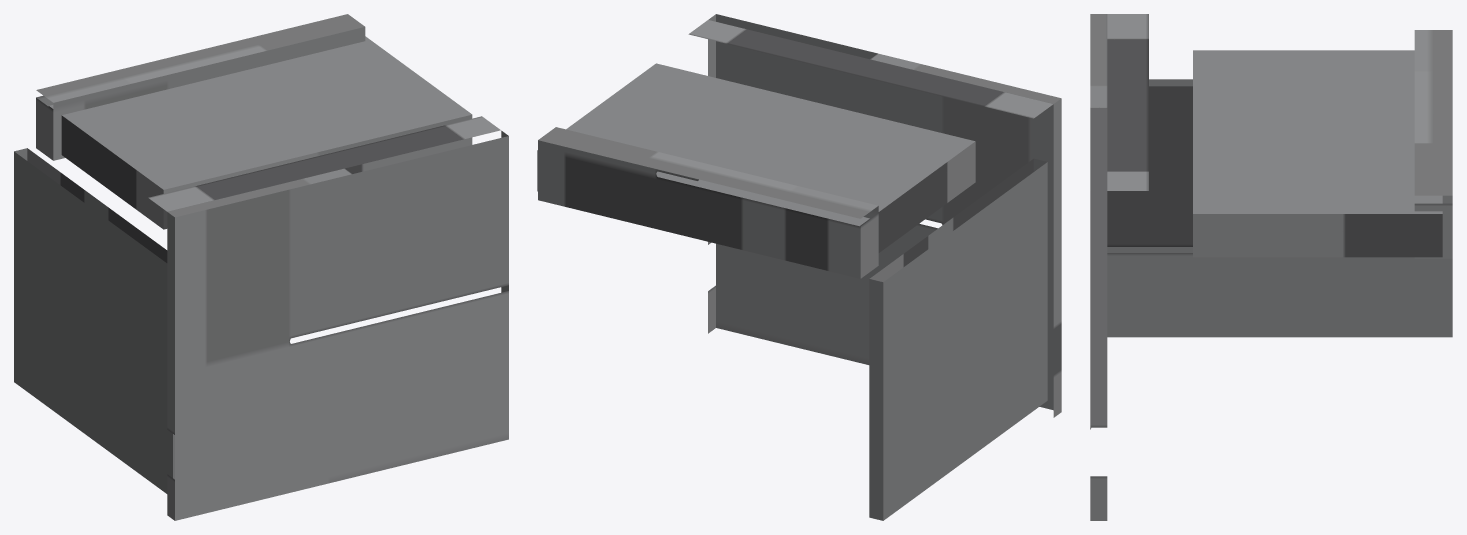
The picture shows the model from 3 angles, left to right: view 1: azimuth 30°, elevation 25°; view 2: azimuth 150°, elevation 25°; view 3: azimuth 270°, elevation 25°; orthographic projection. The views are drawn at different scales.
Size of the model in its own units: 1.03 by 0.864 by 0.86.
